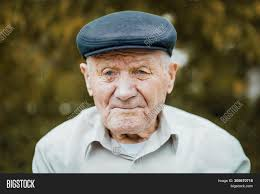white_male: (92, 48, 165, 133)
